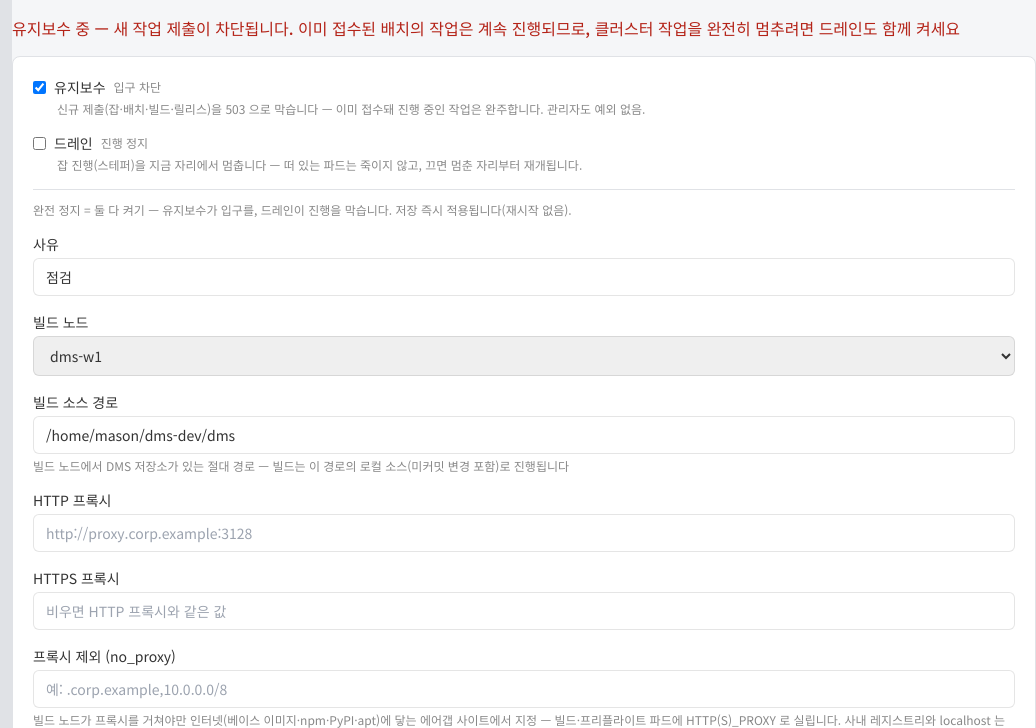
빌드 프록시 3종을 입력해 저장하면 PUT 본문에 실리고 현재 상태에 보인다
Expected: the checkbox labelled "유지보수" is shown, [33,80,46,94]
Type "http://proxy.corp:3128" into the field labelled "HTTP 프록시" at (524, 533), box [33,514,1015,552]
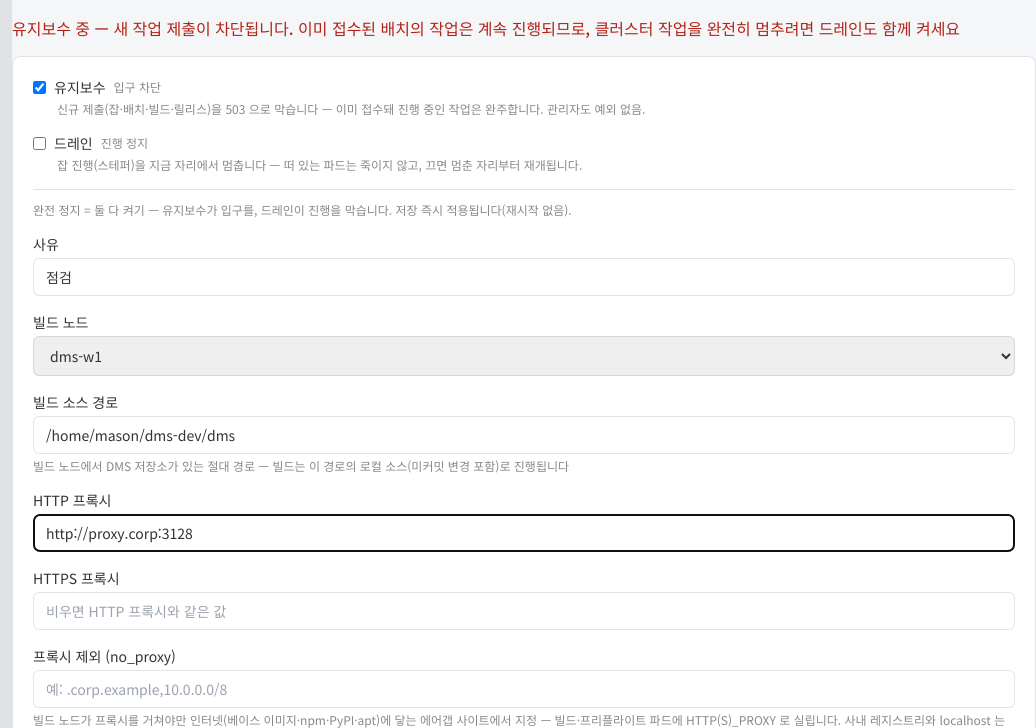
Type ".corp.example" into the field labelled "프록시 제외" at (524, 689), box [33,670,1015,708]
(page scrolled)
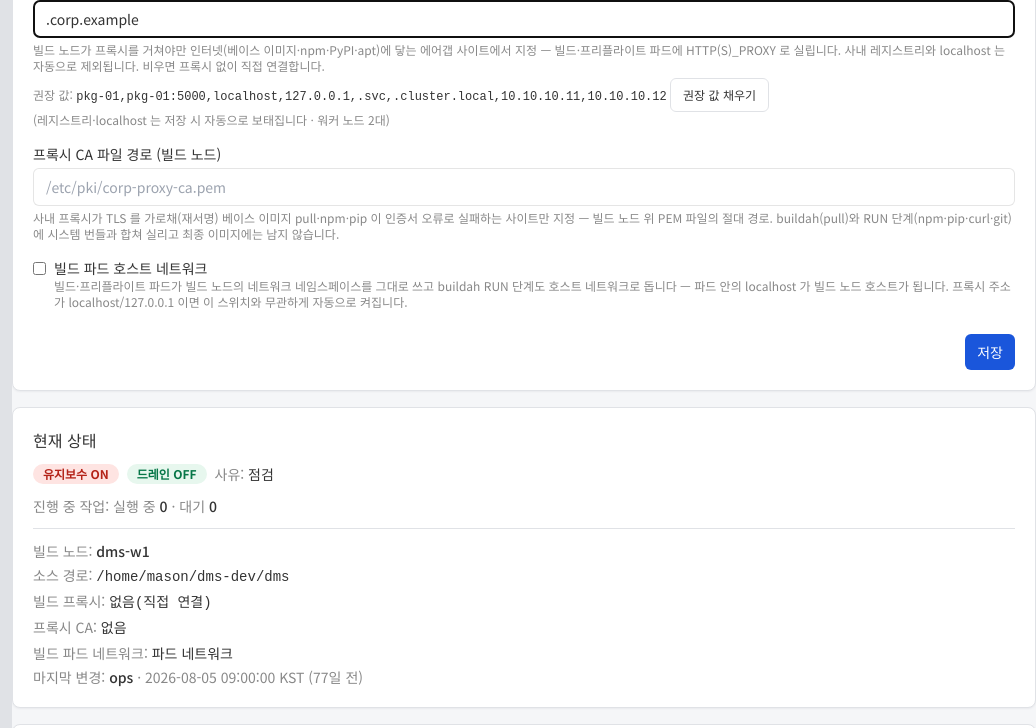
Click the button "저장" at (990, 352), box [965,334,1015,370]
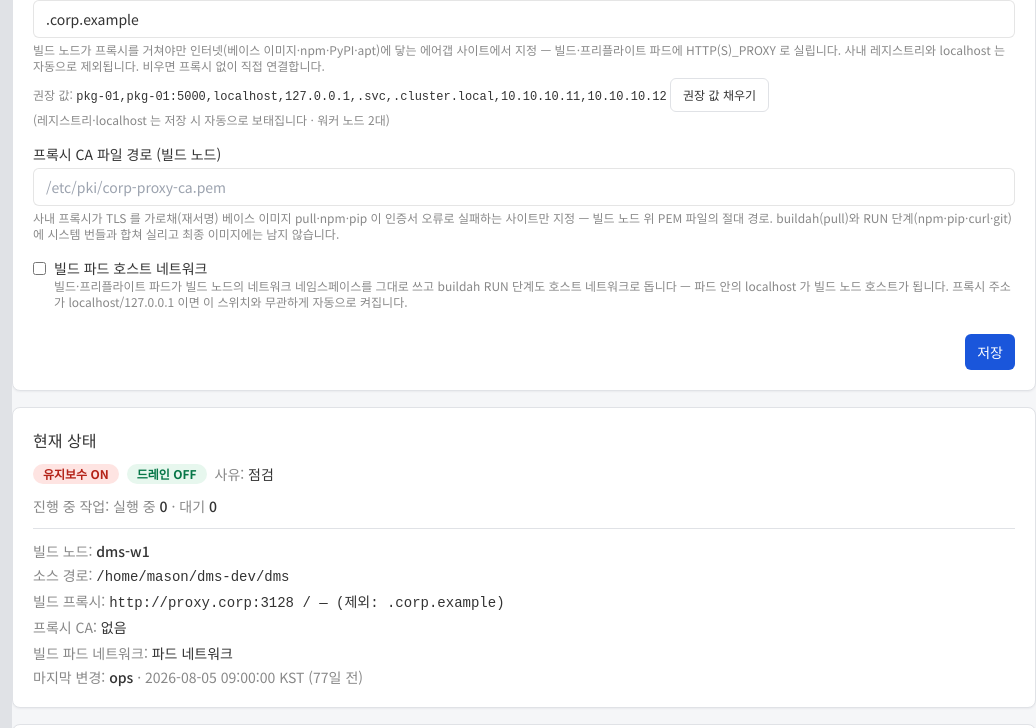
Now the text "http://proxy.corp:3128 / — (제외: .corp.example)" is shown, box [109,595,505,611]
